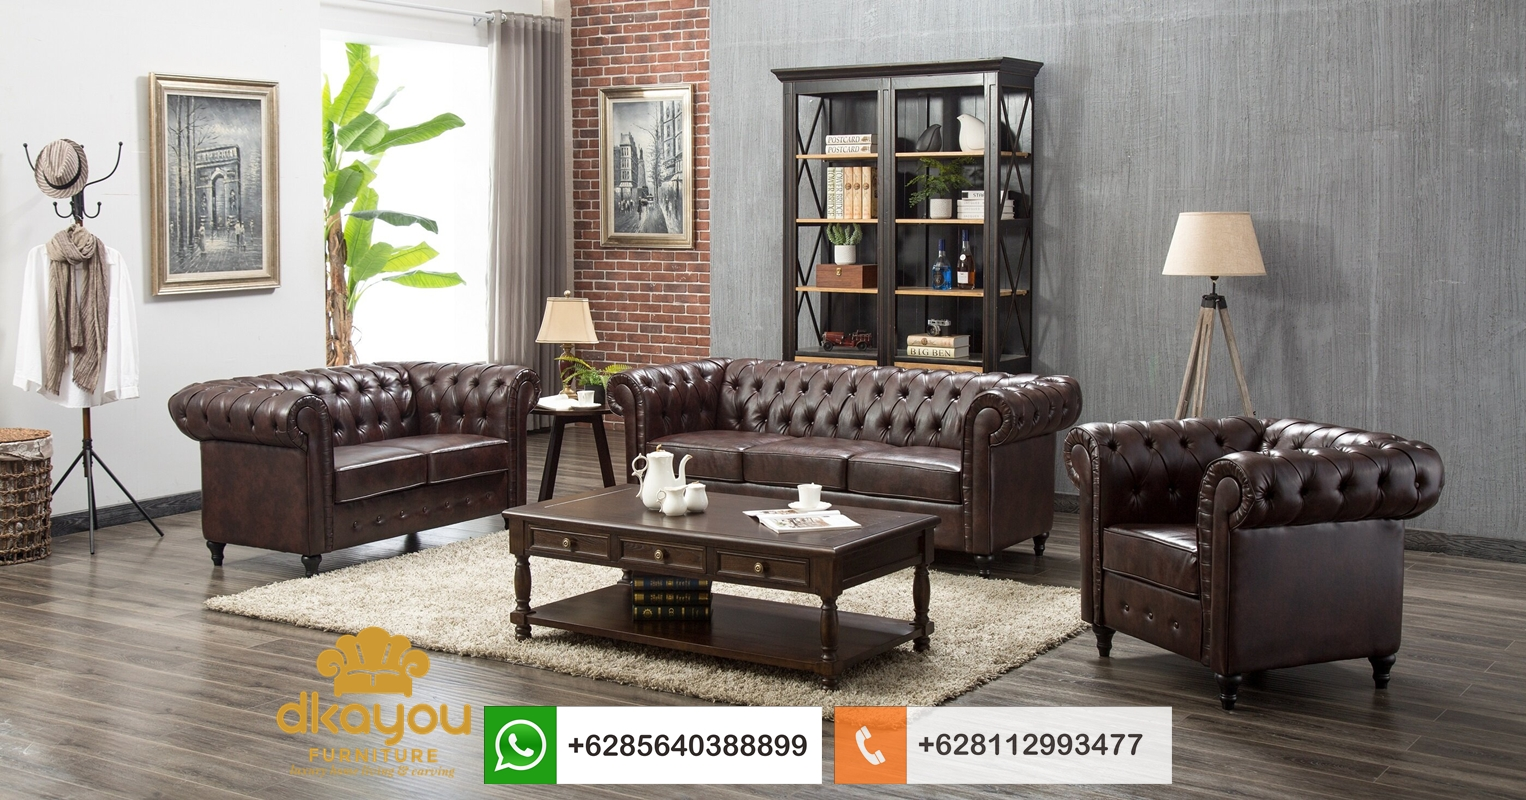buku: (621, 572, 715, 625), (745, 508, 866, 536), (821, 163, 876, 220), (905, 330, 972, 365), (959, 189, 1015, 218), (822, 127, 874, 153)
gelas: (794, 481, 829, 515), (571, 387, 598, 409)
lampu: (1153, 205, 1276, 391), (531, 294, 603, 372)
lukisan: (138, 67, 285, 306), (591, 81, 701, 257)
meja: (502, 481, 941, 668)
sova: (1062, 407, 1448, 722), (170, 354, 525, 561), (611, 343, 1070, 482)
tanaman: (321, 40, 458, 353), (906, 159, 956, 216), (823, 226, 861, 266)
